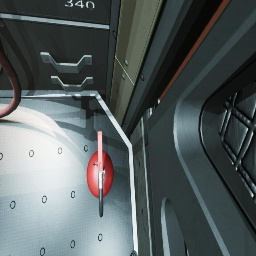FireExtinguisher ]: (86, 131, 114, 217)
